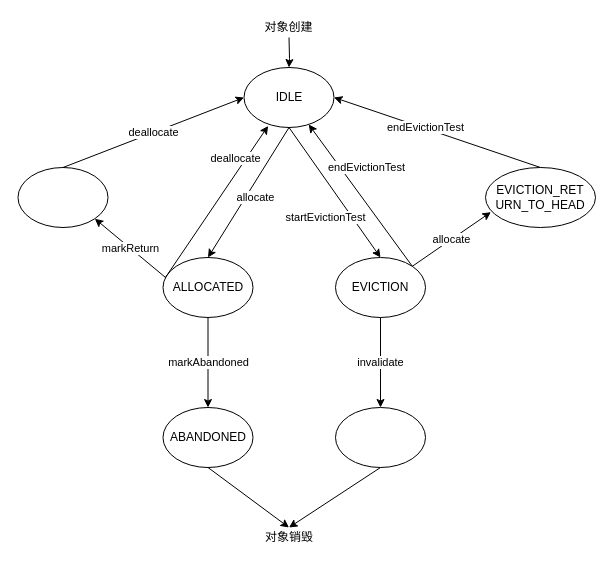
Image size: 613x564. Some labels were removed from this diagram. The shapes that lost their labels are listed below. From the top down, each one's box as (x1, y1, x2, y2) in pixels, then its label:
(17, 166, 108, 228): RETURNING
(334, 406, 426, 468): INVALID
